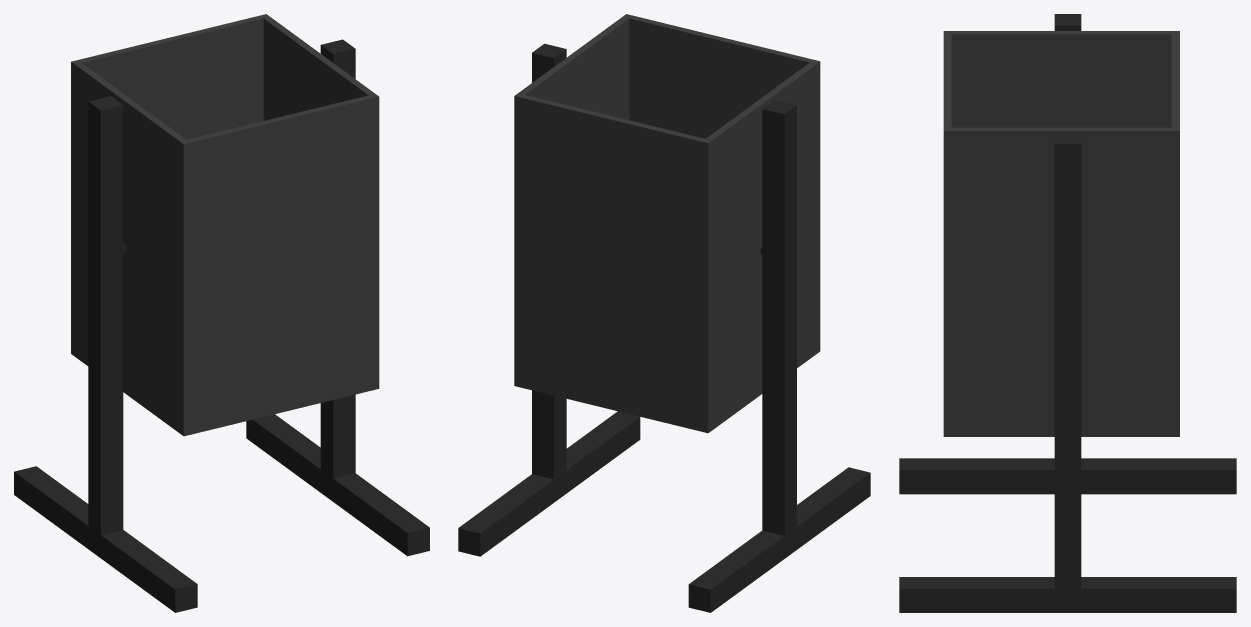
The model's file is Trashcan4.FBX.
The picture shows the model from 3 angles, left to right: view 1: azimuth 30°, elevation 25°; view 2: azimuth 150°, elevation 25°; view 3: azimuth 270°, elevation 25°; orthographic projection. The views are drawn at different scales.
Visible parts, largest first — view 1: Trashcan4, Trashcan4_Crutch; view 2: Trashcan4, Trashcan4_Crutch; view 3: Trashcan4, Trashcan4_Crutch.
Boxes of the visible parts, box(x1,y1,x2,y2) form: Trashcan4: box(71, 14, 379, 436); Trashcan4_Crutch: box(14, 39, 429, 612); Trashcan4: box(514, 14, 820, 433); Trashcan4_Crutch: box(458, 43, 870, 612); Trashcan4: box(943, 31, 1179, 436); Trashcan4_Crutch: box(899, 14, 1236, 612).
Bounding box in the file's own units: 17.94 × 30.17 × 19.69.
